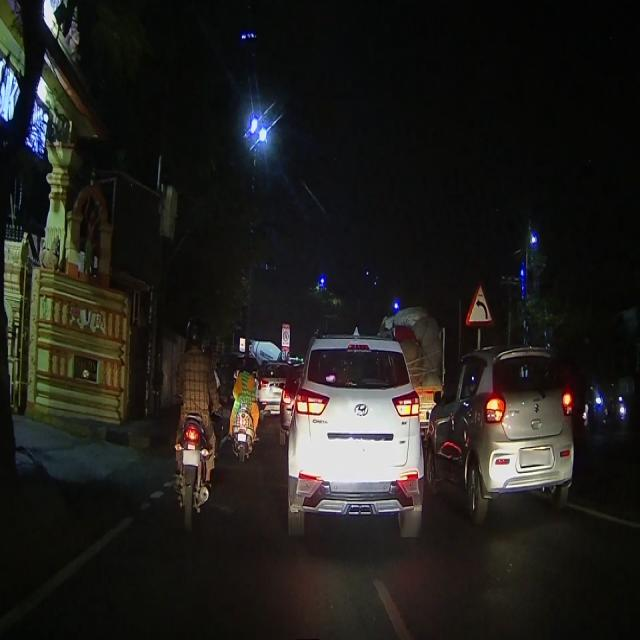left-hand-curve: (464, 274, 496, 342)
